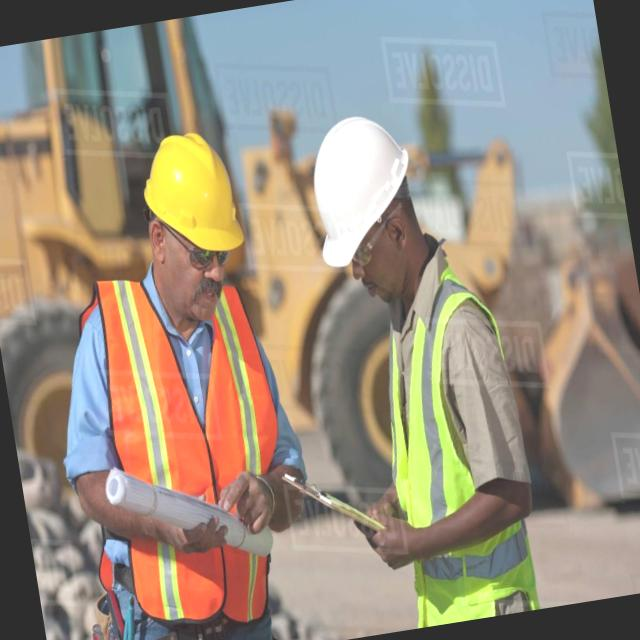helmet: (291, 102, 429, 275), (129, 126, 249, 270)
vest: (338, 266, 552, 632), (84, 263, 292, 598)
